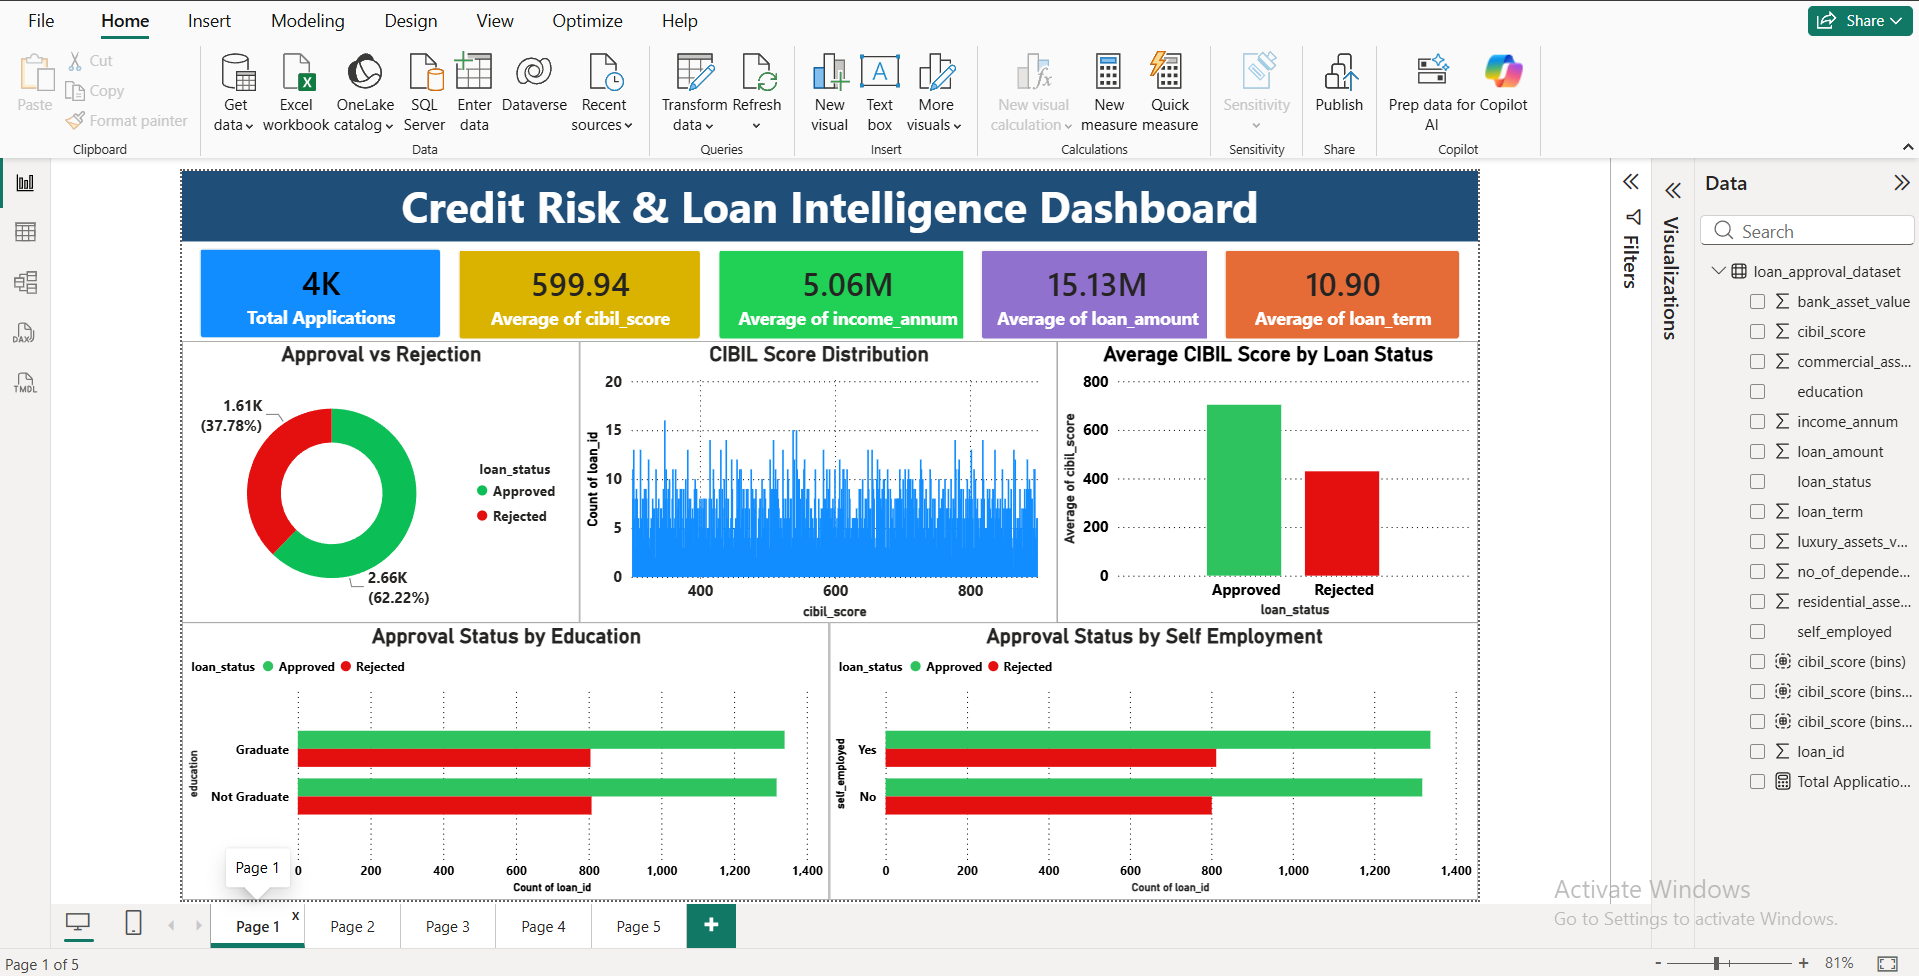

The dashboard page shown, as its layout file describes it:
{"tool":"powerbi","page":{"name":"Page 1","canvas":[1280,720],"ordinal":0},"visuals":[{"type":"cardVisual","fields":{"Data":["loan_approval_dataset.Total Applications"]},"box":[0,59.7,273.7,123.2],"z":0},{"type":"cardVisual","fields":{"Data":["Avg(loan_approval_dataset. cibil_score)"]},"box":[255.2,60.4,274.4,123.5],"z":1000},{"type":"cardVisual","fields":{"Data":["Avg(loan_approval_dataset. income_annum)"]},"box":[511.8,60.4,289.5,123.5],"z":2000},{"type":"cardVisual","fields":{"Data":["Avg(loan_approval_dataset. loan_amount)"]},"box":[771.2,60.4,264.8,123.5],"z":3000},{"type":"cardVisual","fields":{"Data":["Avg(loan_approval_dataset. loan_term)"]},"box":[1012.7,60.4,267.6,123.5],"z":4000},{"type":"donutChart","title":"Approval vs Rejection","fields":{"Category":["loan_approval_dataset. loan_status"],"Y":["CountNonNull(loan_approval_dataset.loan_id)"]},"box":[0,167.4,392.5,278.6],"z":5000},{"type":"clusteredColumnChart","title":"CIBIL Score Distribution","fields":{"Category":["loan_approval_dataset. cibil_score"],"Y":["CountNonNull(loan_approval_dataset.loan_id)"]},"box":[392.5,167.4,472,279.9],"z":6000},{"type":"textbox","box":[0,0,1280.3,70],"z":7000},{"type":"clusteredBarChart","title":"Approval Status by Education","fields":{"Y":["CountNonNull(loan_approval_dataset.loan_id)"],"Category":["loan_approval_dataset. education"],"Series":["loan_approval_dataset. loan_status"]},"box":[0,446,639.5,274.4],"z":8000},{"type":"clusteredBarChart","title":"Approval Status by Self Employment","fields":{"Y":["CountNonNull(loan_approval_dataset.loan_id)"],"Category":["loan_approval_dataset. self_employed"],"Series":["loan_approval_dataset. loan_status"]},"box":[639.5,446,640.8,274.4],"z":9000},{"type":"clusteredColumnChart","title":"Average CIBIL Score by Loan Status","fields":{"Category":["loan_approval_dataset. loan_status"],"Y":["Avg(loan_approval_dataset. cibil_score)"]},"box":[864.5,167.4,415.8,278.6],"z":10000}]}

Visuals, with their boxes on the page's 1280x720 design canvas (x1, y1, x2, y2). These are canvas units, not pixel positions in the 1919x976 screenshot, which may show the page scaled, cropped or inside an application window:
cardVisual - loan_approval_dataset.Total Applications: box=[0, 60, 274, 183]
cardVisual - Avg(loan_approval_dataset. cibil_score): box=[255, 60, 530, 184]
cardVisual - Avg(loan_approval_dataset. income_annum): box=[512, 60, 801, 184]
cardVisual - Avg(loan_approval_dataset. loan_amount): box=[771, 60, 1036, 184]
cardVisual - Avg(loan_approval_dataset. loan_term): box=[1013, 60, 1280, 184]
"Approval vs Rejection" donutChart: box=[0, 167, 392, 446]
"CIBIL Score Distribution" clusteredColumnChart: box=[392, 167, 864, 447]
textbox: box=[0, 0, 1280, 70]
"Approval Status by Education" clusteredBarChart: box=[0, 446, 640, 720]
"Approval Status by Self Employment" clusteredBarChart: box=[640, 446, 1280, 720]
"Average CIBIL Score by Loan Status" clusteredColumnChart: box=[864, 167, 1280, 446]
